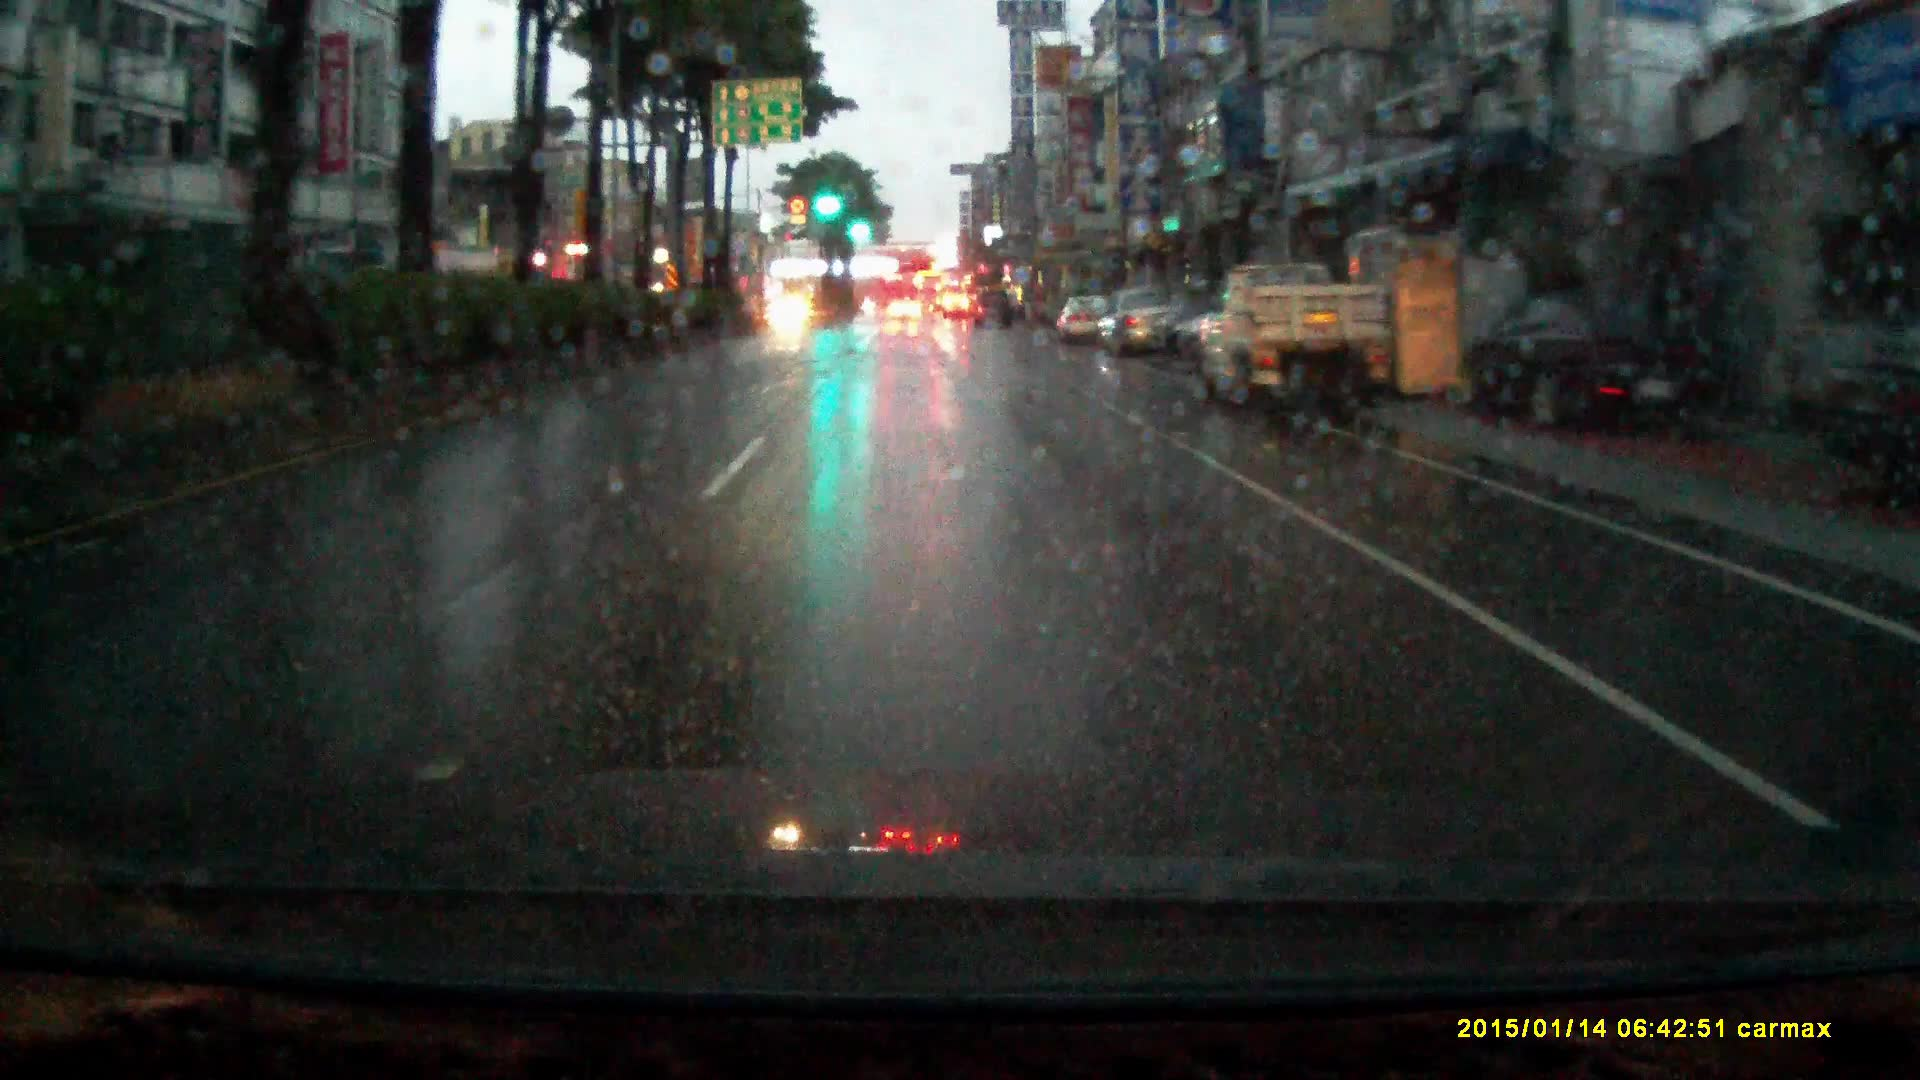vehicle: (1456, 298, 1727, 446), (1197, 266, 1400, 429), (1098, 289, 1187, 363), (1058, 297, 1109, 349), (767, 301, 814, 338), (975, 293, 1014, 335), (916, 280, 940, 316), (943, 297, 973, 324), (887, 305, 923, 324)
